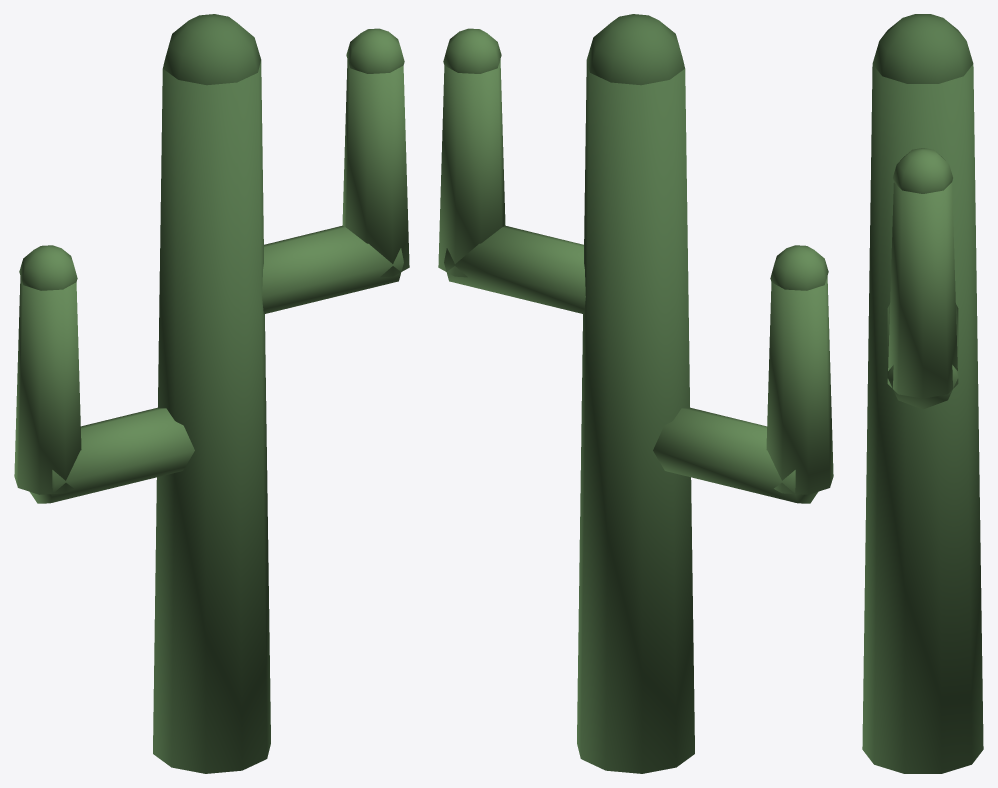
Rendered from Cactus.glb.
The picture shows the model from 3 angles, left to right: view 1: azimuth 30°, elevation 25°; view 2: azimuth 150°, elevation 25°; view 3: azimuth 270°, elevation 25°; orthographic projection.
Visible parts, largest first — view 1: Cactus; view 2: Cactus; view 3: Cactus.
Boxes of the visible parts, x1,y1,x2,y2 form: Cactus: (14,14,409,773); Cactus: (438,14,833,773); Cactus: (862,14,983,773).
Size of the model in its own units: 3.56 by 6.4 by 0.96.
